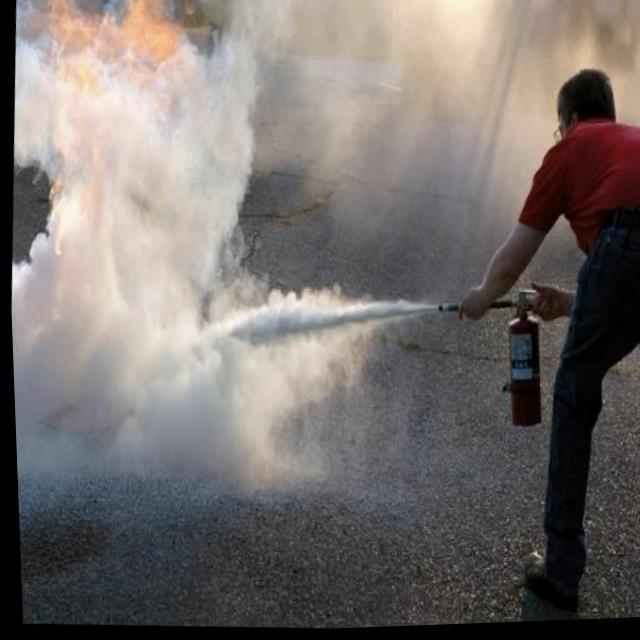FireExtinguisher: (419, 283, 551, 444)
